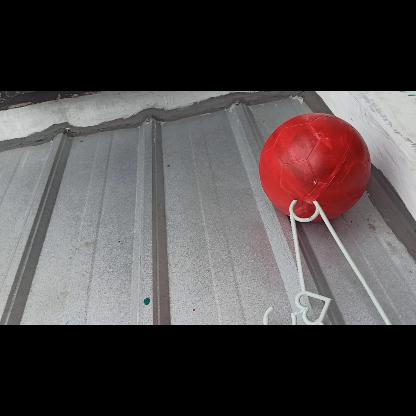red_ball: (259, 111, 369, 221)
